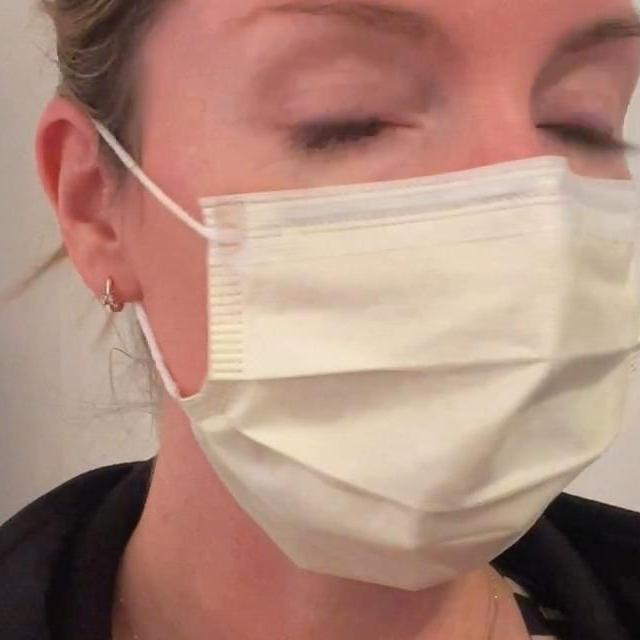Mask: (107, 166, 640, 587)
Person: (0, 0, 640, 640)
